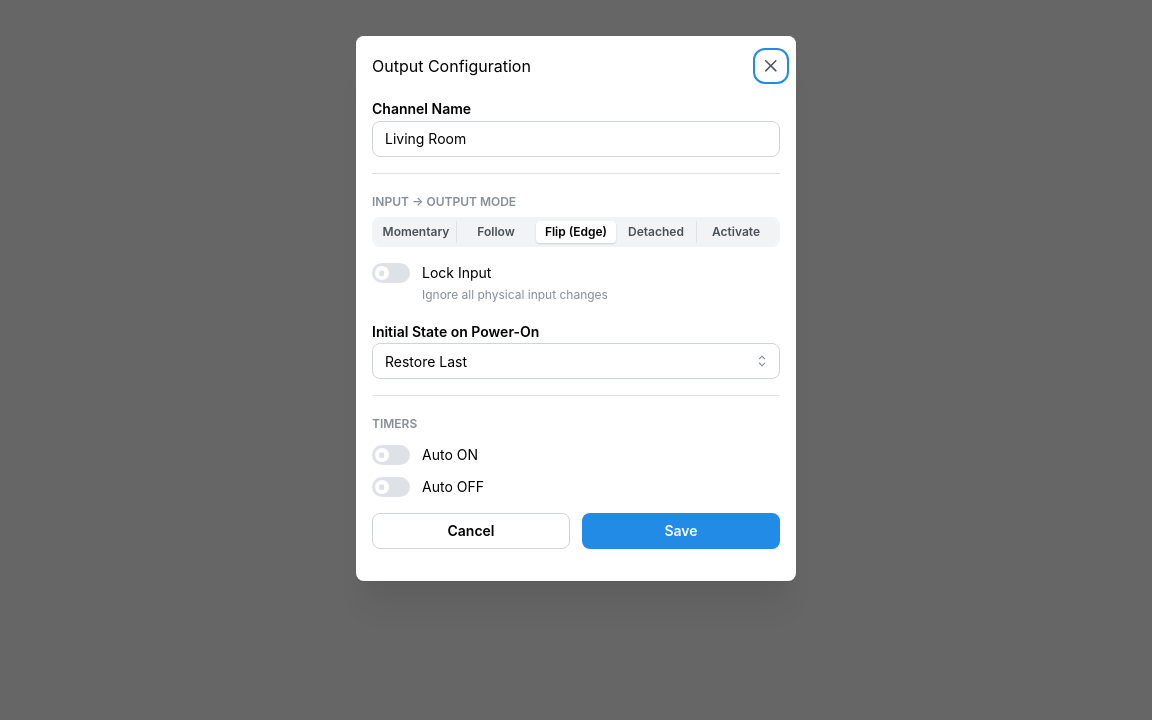
SwitchConfigPanel › shows Auto ON Delay when Auto ON is toggled on
The width and height of the screenshot is (1152, 720).
Expected: the field labelled "Auto ON Delay (s)" is not shown
Step 1. Click the switch labelled "Auto ON" → (425, 455), box [372, 445, 478, 465]
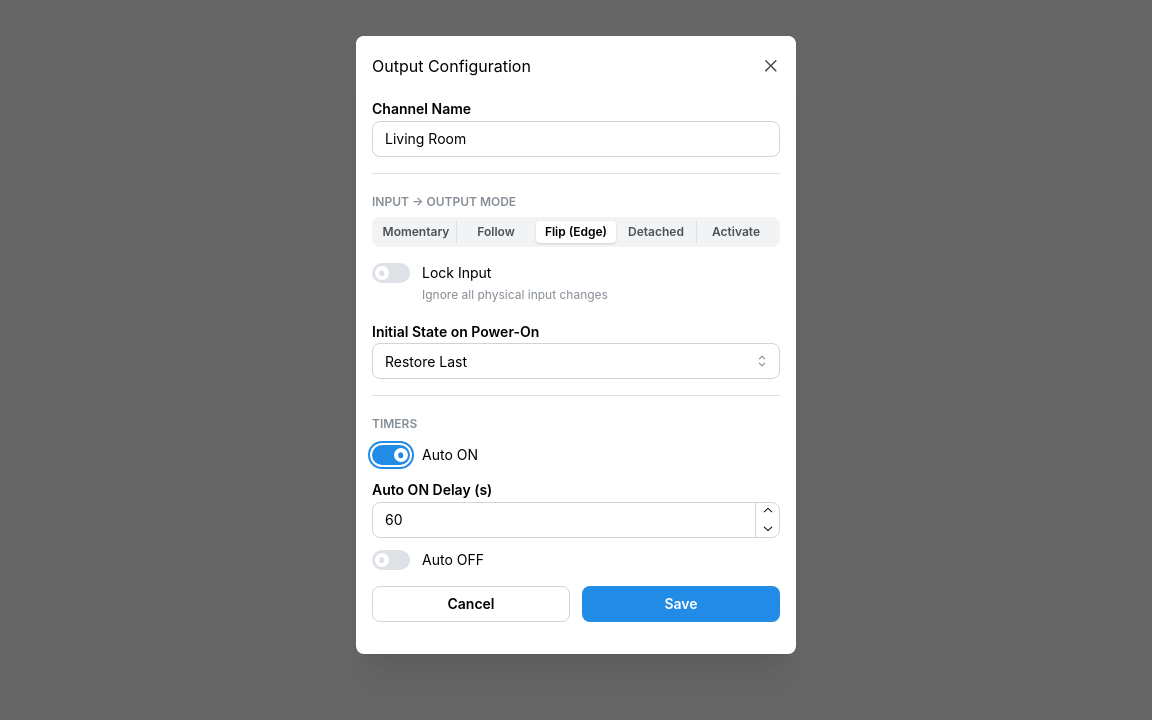
Expected: the field labelled "Auto ON Delay (s)" is shown, [372, 502, 780, 538]
